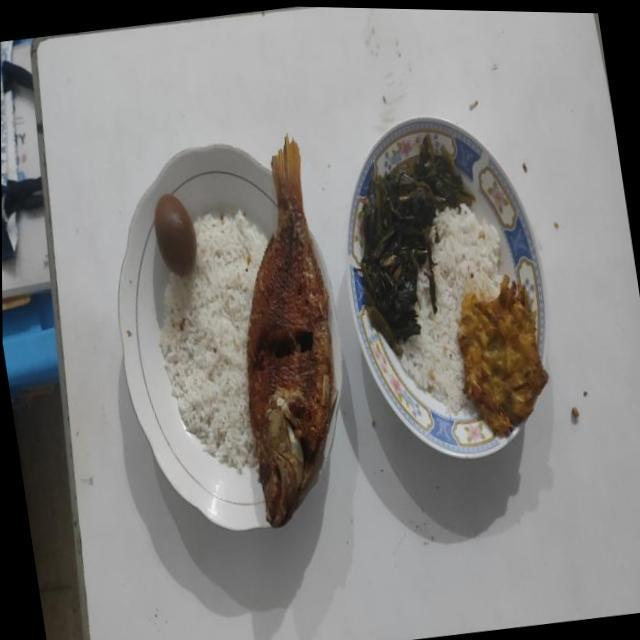ikan_mujair: (247, 138, 337, 526)
nasi_putih: (158, 212, 268, 474), (400, 208, 502, 412)
tumis_kangkung: (358, 134, 474, 356)
